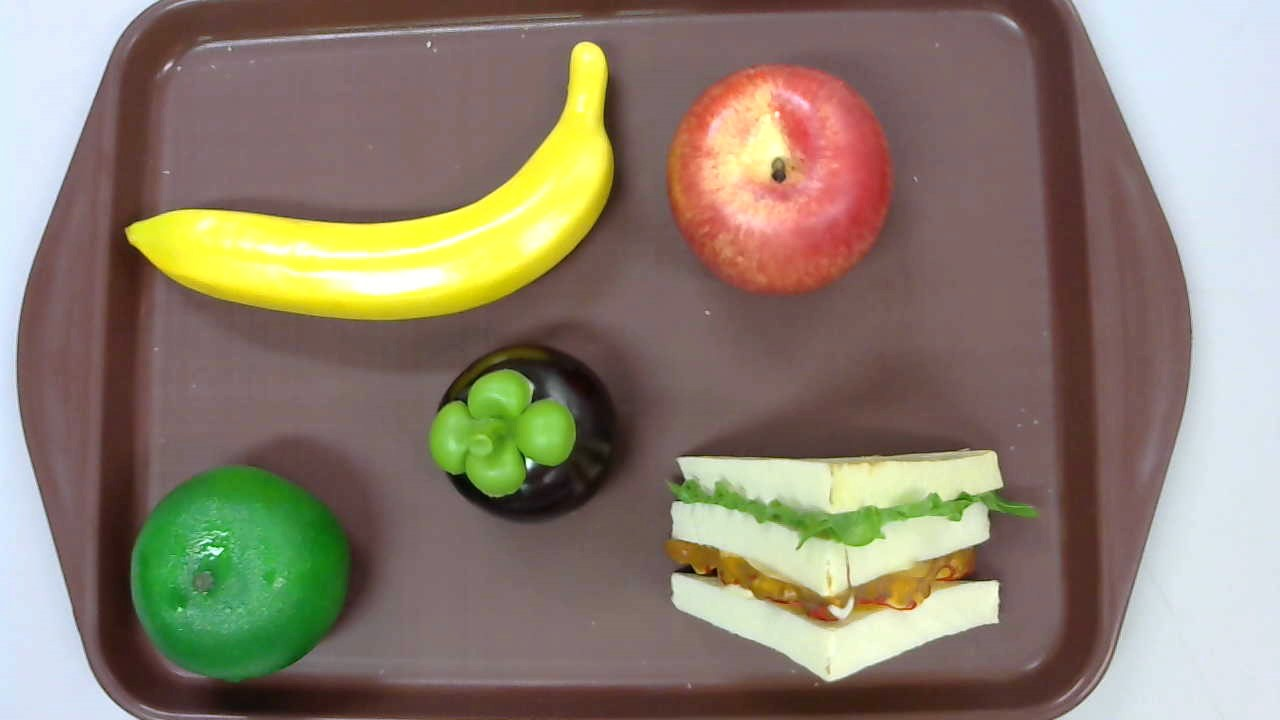banana: (122, 42, 615, 319)
green orange: (128, 463, 349, 682)
mangosteen: (429, 345, 621, 524)
red apple: (666, 63, 896, 297)
sandwich: (664, 447, 1041, 683)
